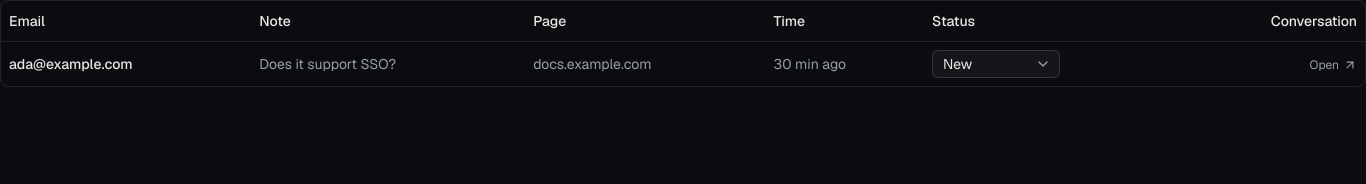
Test: LeadsTable › saves a new status through the action and keeps it
Step 1. Click the dropdown named "Status of ada@example.com" → click(996, 64), box left=932, top=50, right=1060, bottom=78
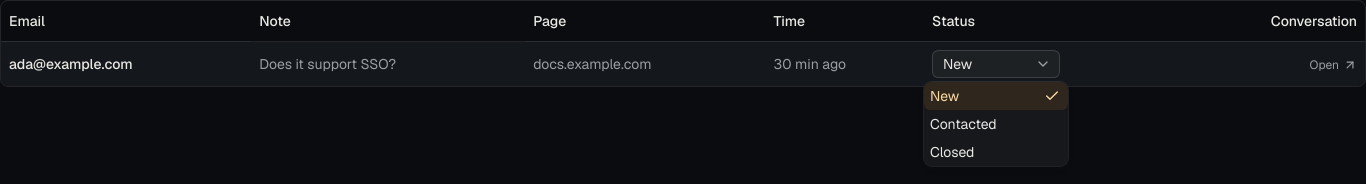
Step 2. Click the option "Contacted" → click(963, 124), box left=930, top=115, right=997, bottom=133
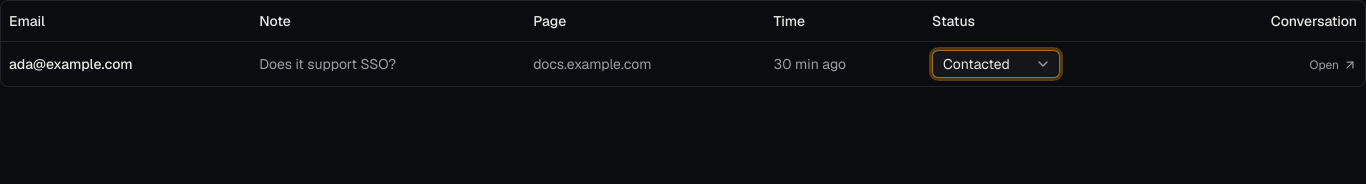
Expected: the dropdown named "Status of ada@example.com" reads "Contacted", left=932, top=50, right=1060, bottom=78
